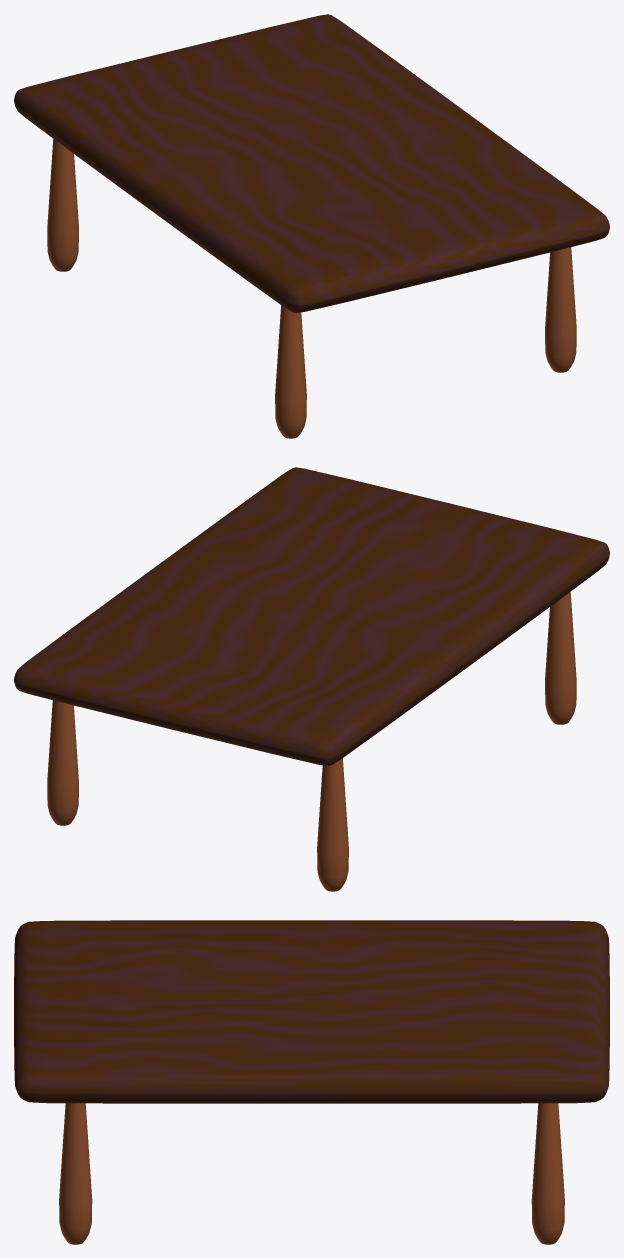
The model's file is masa 1.fbx.
3 views of the same model, one above another, from view 1: azimuth 30°, elevation 25°; view 2: azimuth 150°, elevation 25°; view 3: azimuth 270°, elevation 25° (orthographic). The views are drawn at different scales.
Visible parts, largest first — view 1: Plane, Plane.001; view 2: Plane, Plane.001; view 3: Plane, Plane.001.
Boxes of the visible parts, x1,y1,x2,y2 form: Plane: (14,14,609,312); Plane.001: (47,139,576,438); Plane: (14,467,609,765); Plane.001: (47,592,576,891); Plane: (14,920,609,1103); Plane.001: (59,1103,564,1244).
Bounding box in the file's own units: 376 × 188 × 576.
